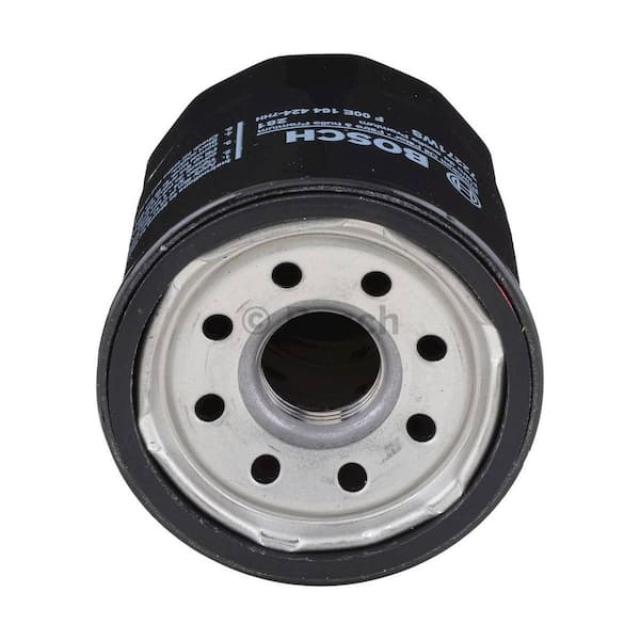oil_filter: (96, 40, 548, 587)
